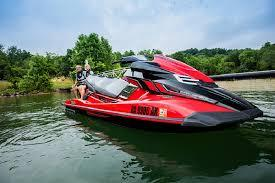Ship: (65, 56, 263, 130)
